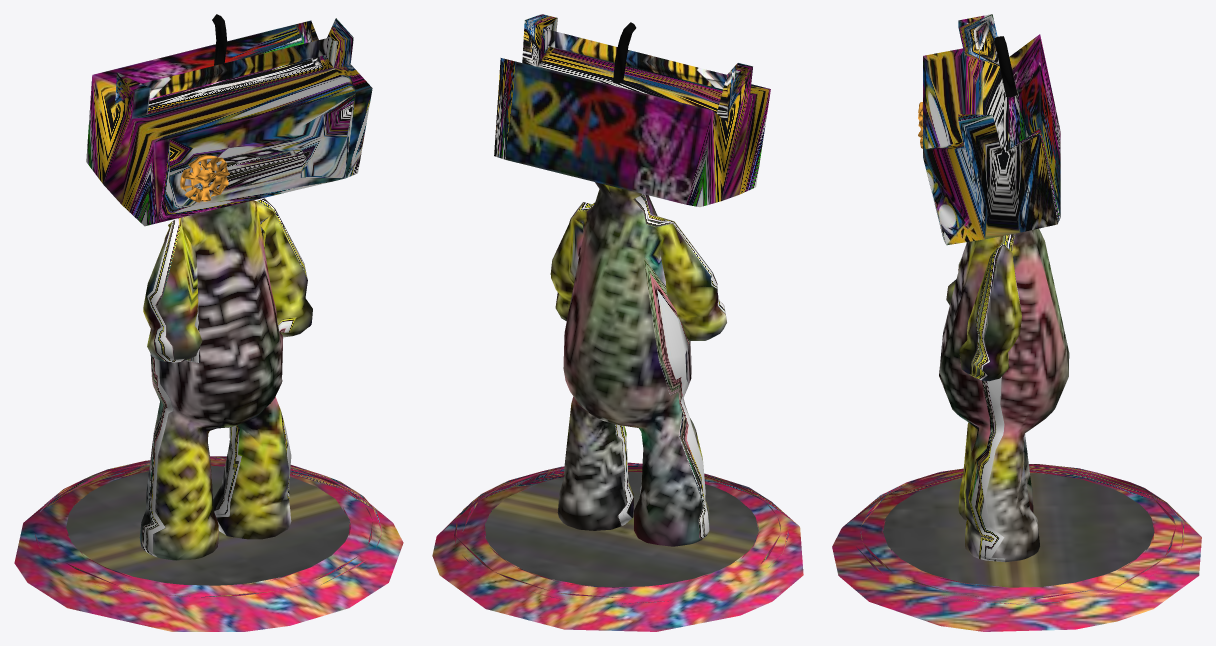
3 views of the same model, side by side, from view 1: azimuth 30°, elevation 25°; view 2: azimuth 150°, elevation 25°; view 3: azimuth 270°, elevation 25° (orthographic). The views are drawn at different scales.
Bounding box in the file's own units: 1.43 × 2.21 × 1.43.
Materials: 6 (5 with a texture image).
